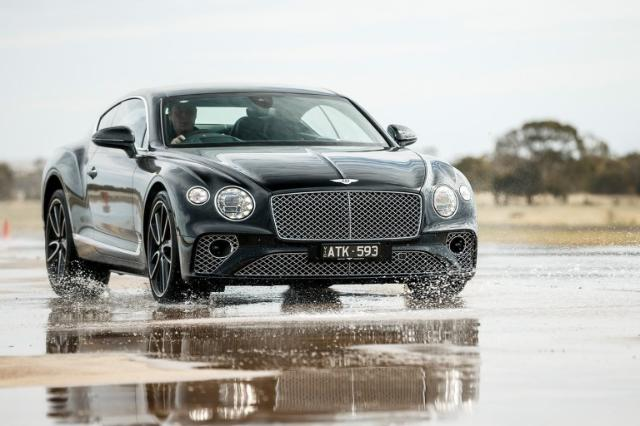bentley: (40, 85, 478, 304)
